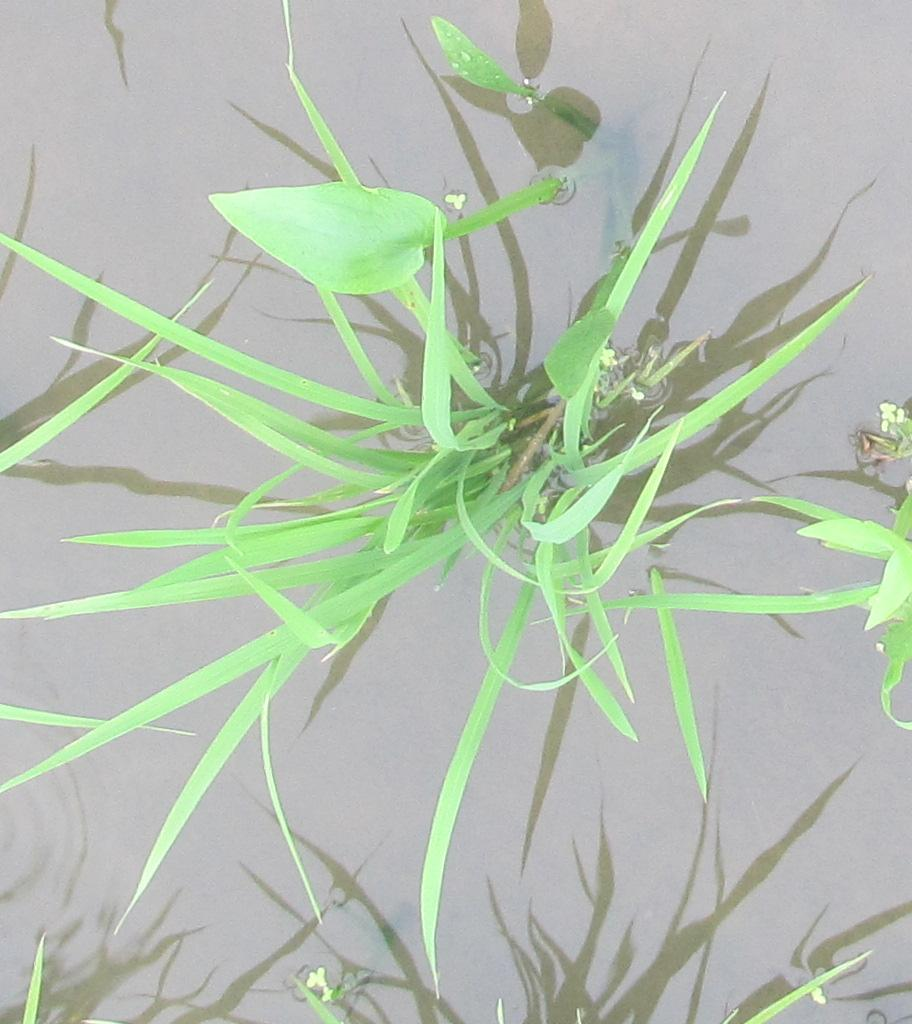Weed: (205, 171, 453, 314)
